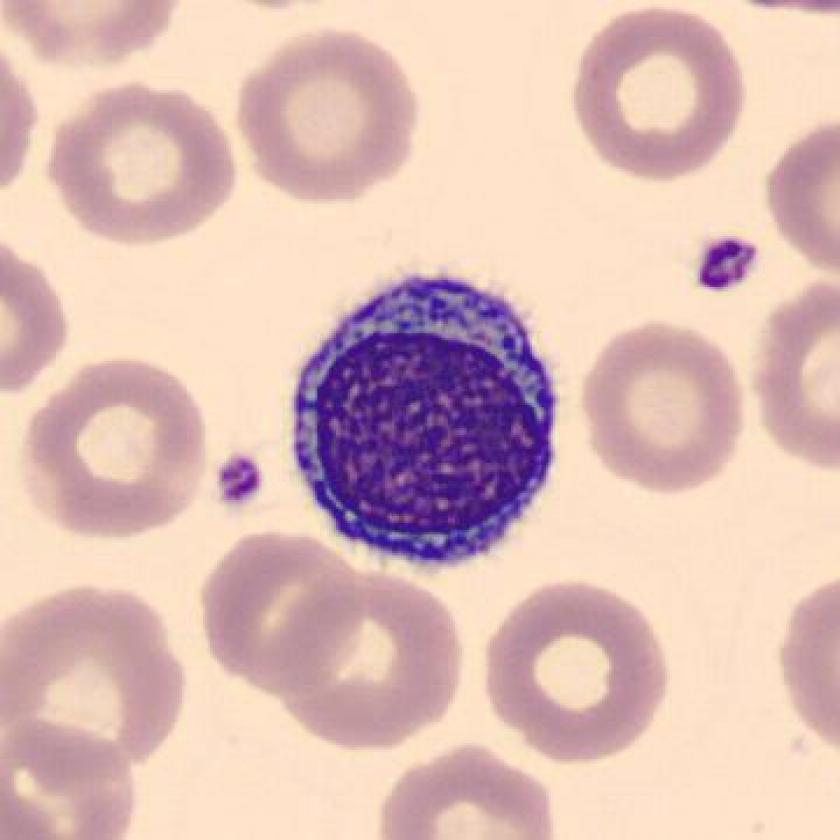lymphocyte: (272, 258, 573, 591)
platelets: (685, 236, 767, 296), (211, 447, 271, 510)
